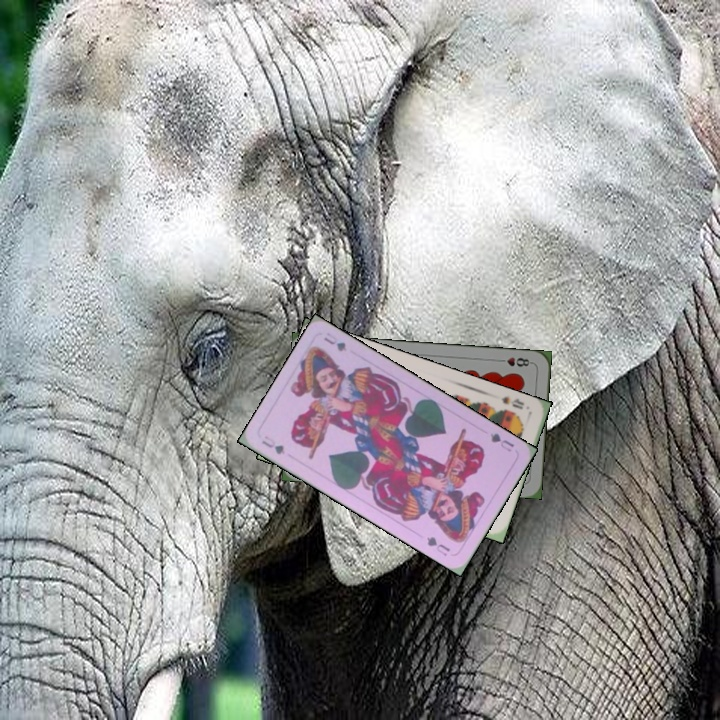GU: (257, 431, 287, 457), (486, 429, 517, 454)
H8: (494, 353, 535, 369)
S8: (498, 392, 527, 412)
